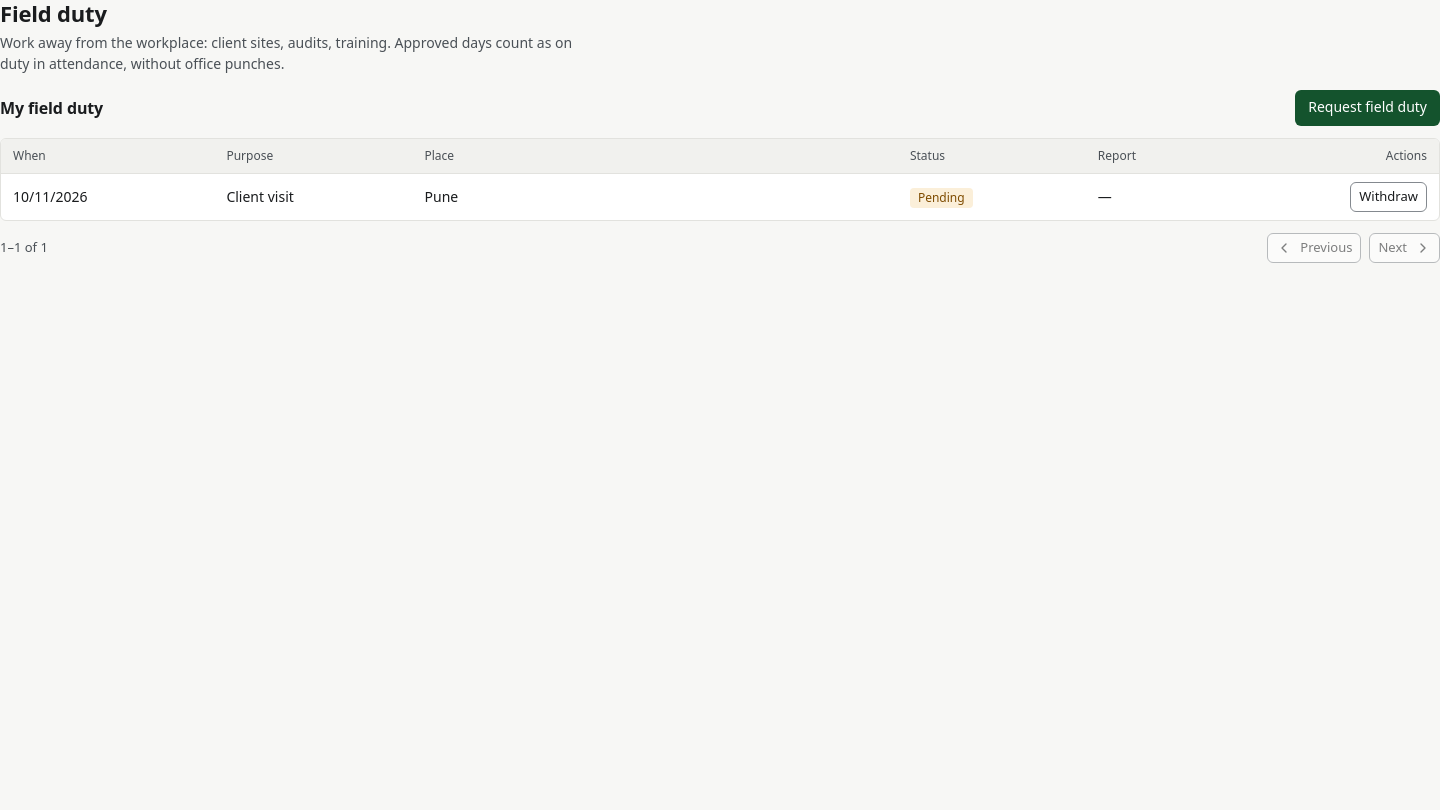
Scenario: my field duty › withdrawing posts and thanks
Click the button "Withdraw" at (1389, 196), box [1350,182,1427,212]
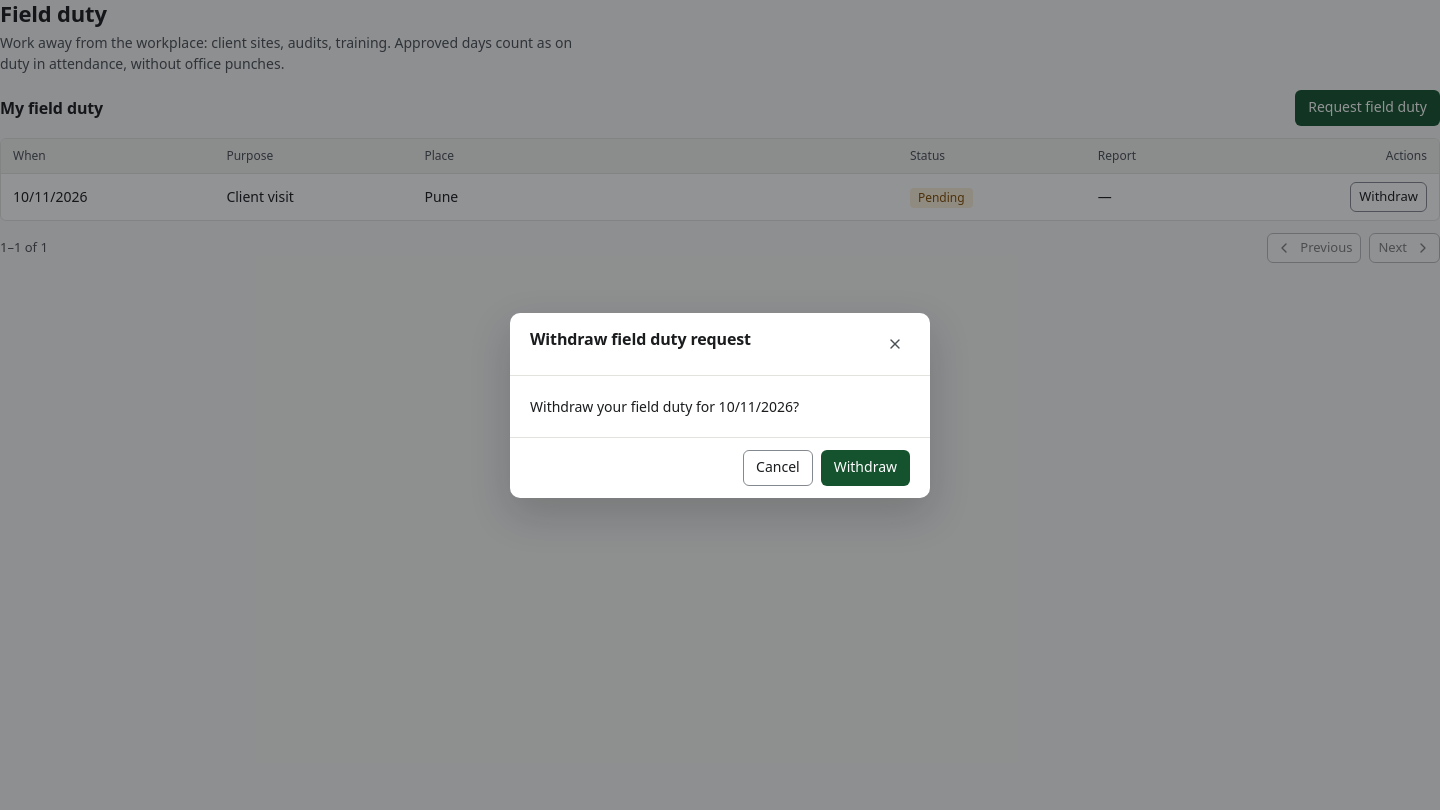
Click the button "Withdraw" at (865, 468), box [821,450,910,486]
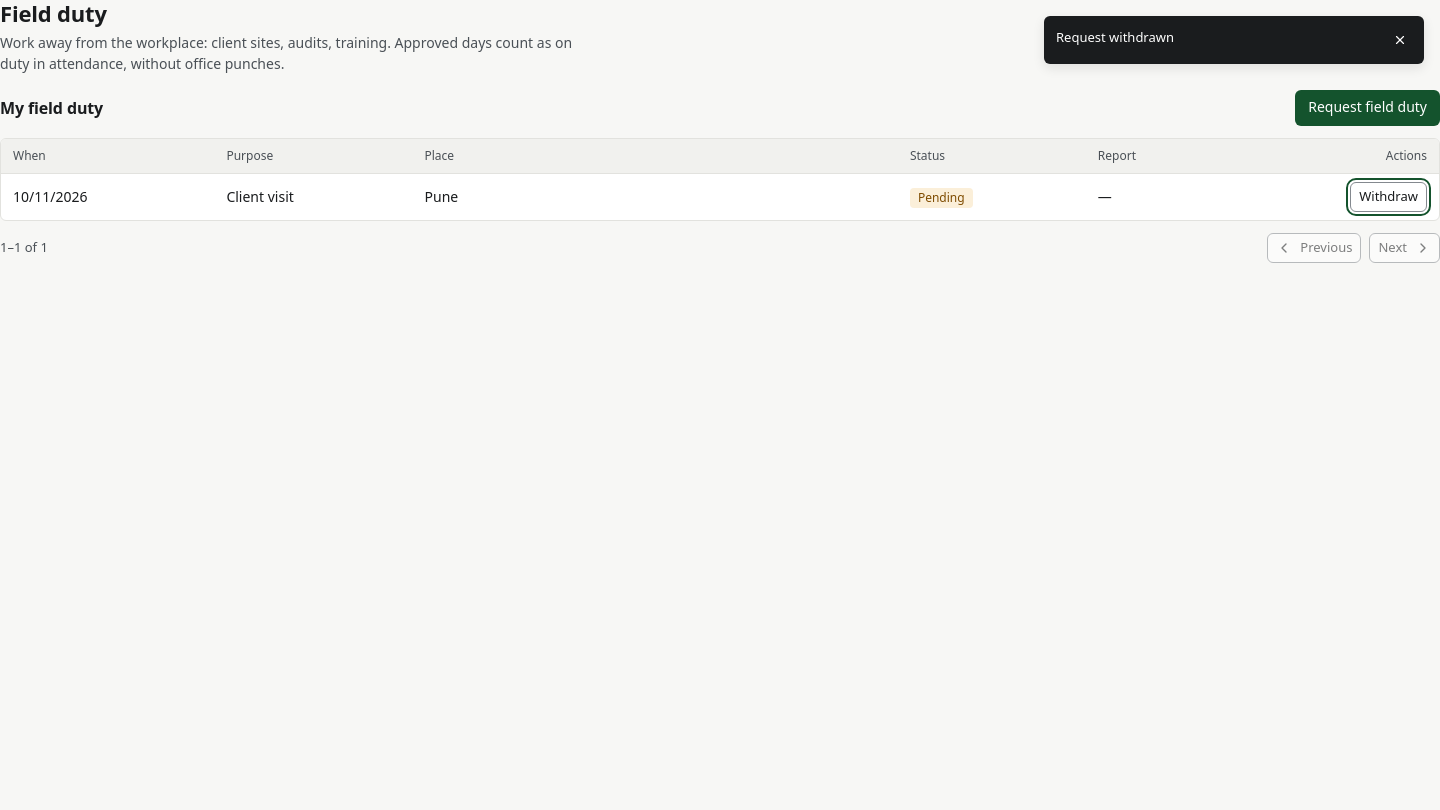
Check: the text "Request withdrawn" is shown, box [1056,28,1174,46]
